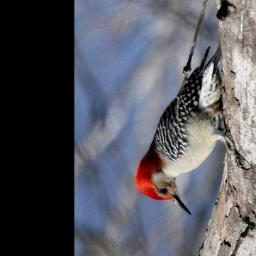Woodpecker: (129, 38, 256, 219)
